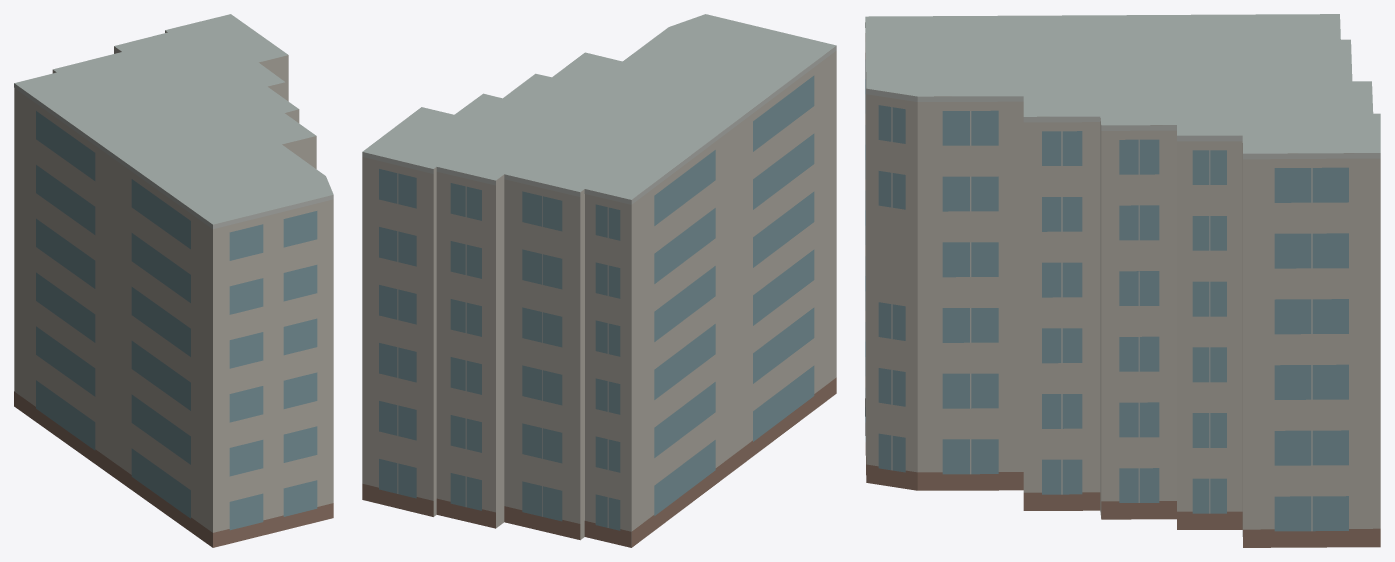
The model's file is survey-upis-33021286.glb.
3 renders of one model, left to right at view 1: azimuth 30°, elevation 25°; view 2: azimuth 150°, elevation 25°; view 3: azimuth 270°, elevation 25°, orthographic. The views are drawn at different scales.
Visible parts, largest first — view 1: survey-upis-33021286.tmp; view 2: survey-upis-33021286.tmp; view 3: survey-upis-33021286.tmp.
Boxes of the visible parts, box(x1,y1,x2,y2) form: survey-upis-33021286.tmp: box(14, 14, 333, 547); survey-upis-33021286.tmp: box(362, 14, 836, 547); survey-upis-33021286.tmp: box(865, 14, 1380, 547).
Bounding box in the file's own units: 13.08 × 17.2 × 20.4.
